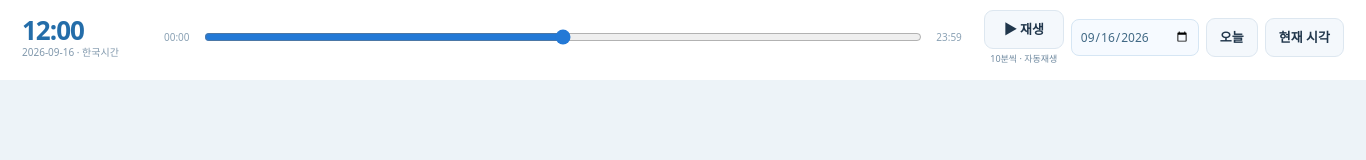
it: TimeSlider › sets the requested calendar date without needing a season preset
In the date field named "분석 날짜": (1135, 37) [1071,19,1199,56], type "2026-12-21"
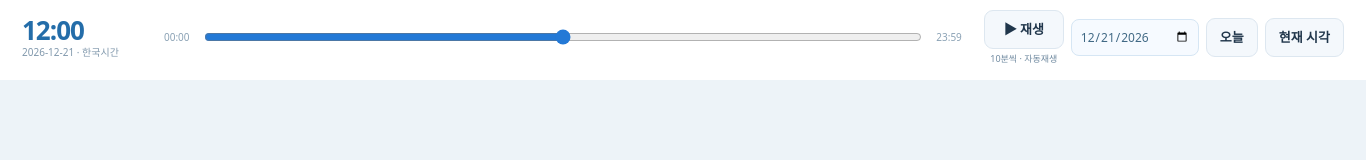
expect the text "2026-12-21 · 한국시간" is shown: met, box [22,45,119,59]
